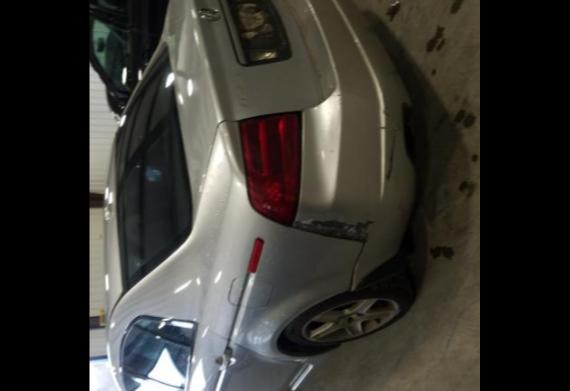Broken part: (286, 0, 417, 292)
Missing part: (232, 0, 280, 48)
Paint chip: (384, 132, 397, 178), (382, 108, 392, 118), (377, 124, 396, 128), (397, 199, 402, 208)
Scratch: (336, 92, 342, 105)
